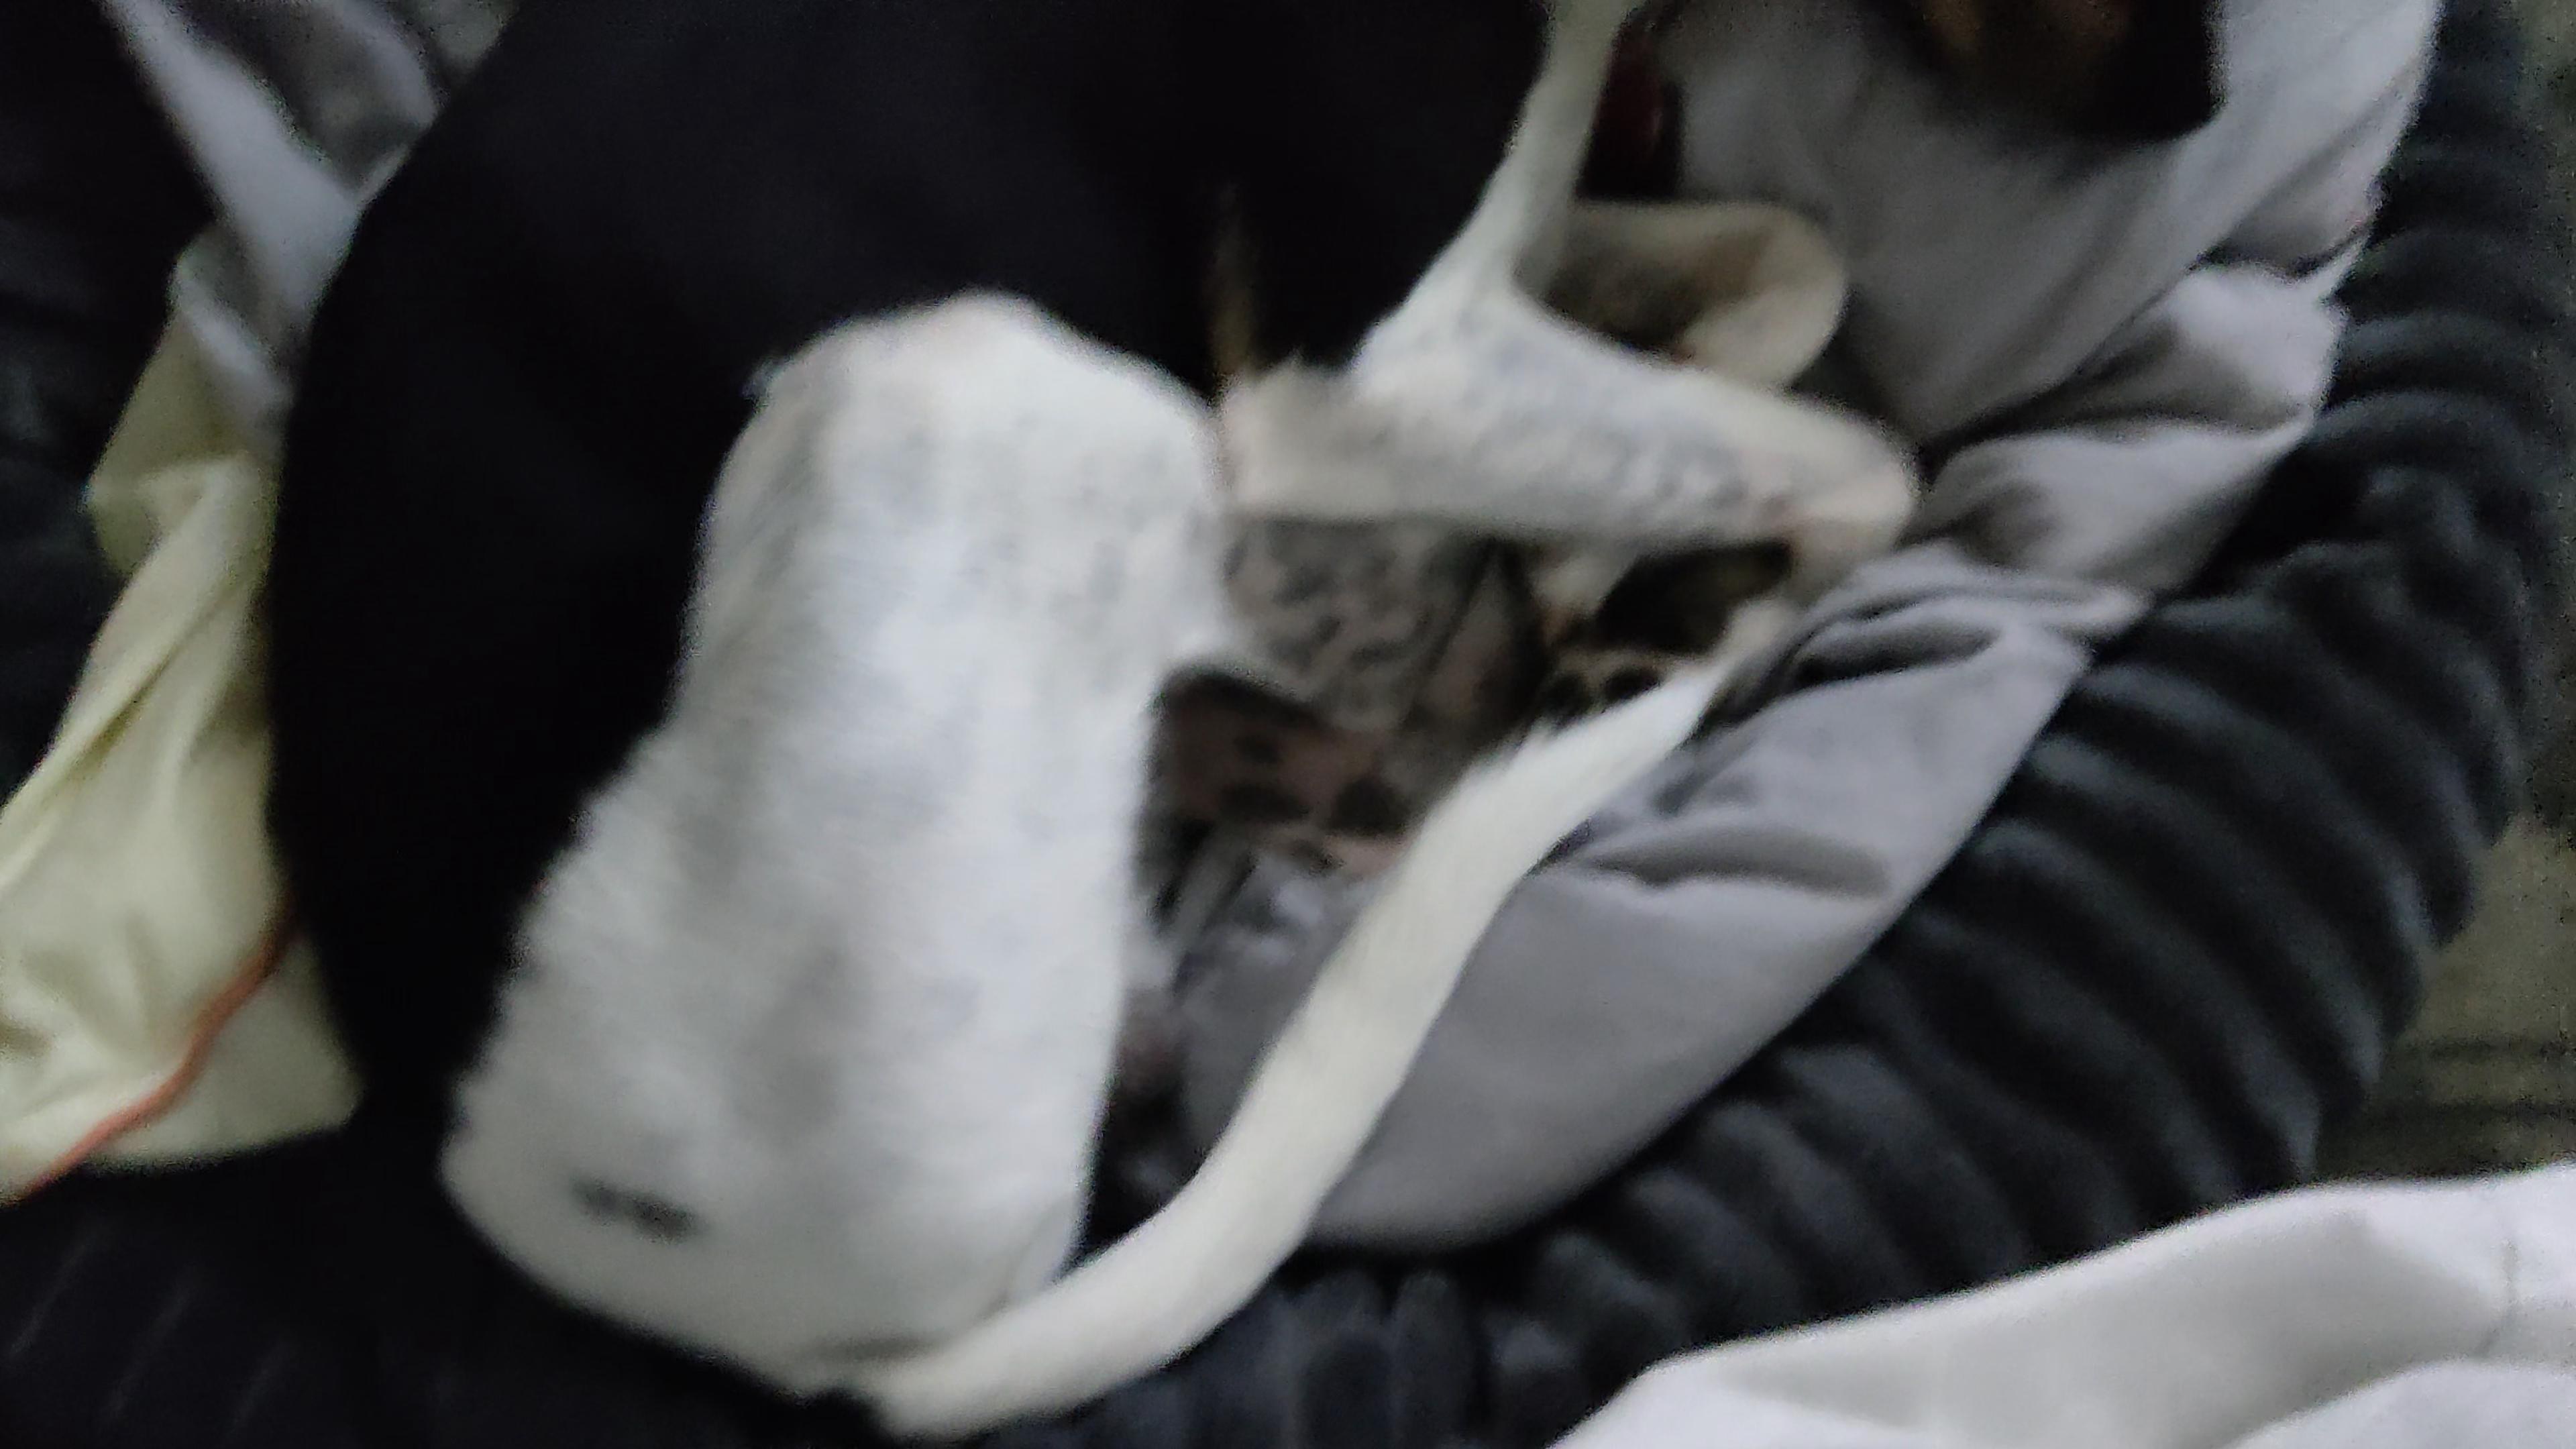Dog: (241, 0, 2263, 1449)
